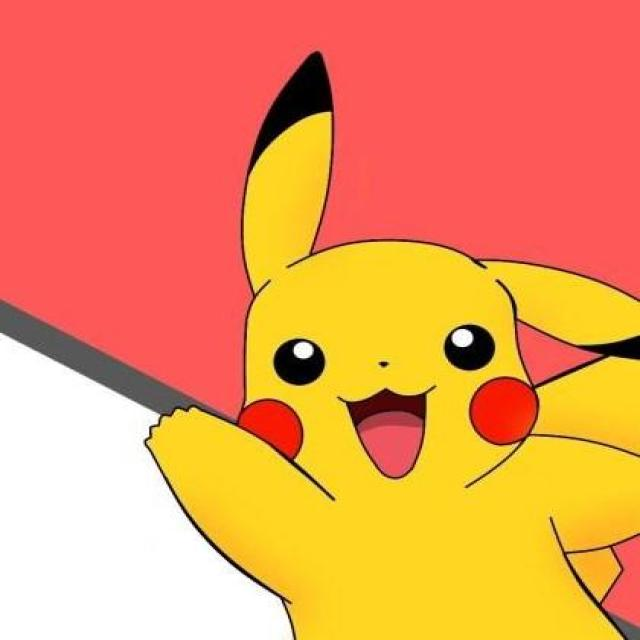pikachu: (146, 50, 640, 640)
